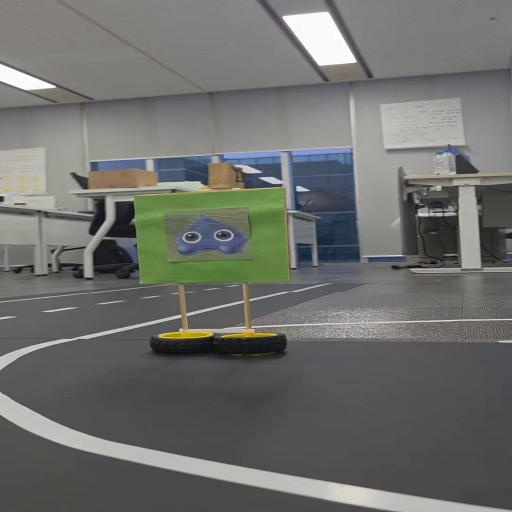Sign_B: (126, 187, 300, 365)
